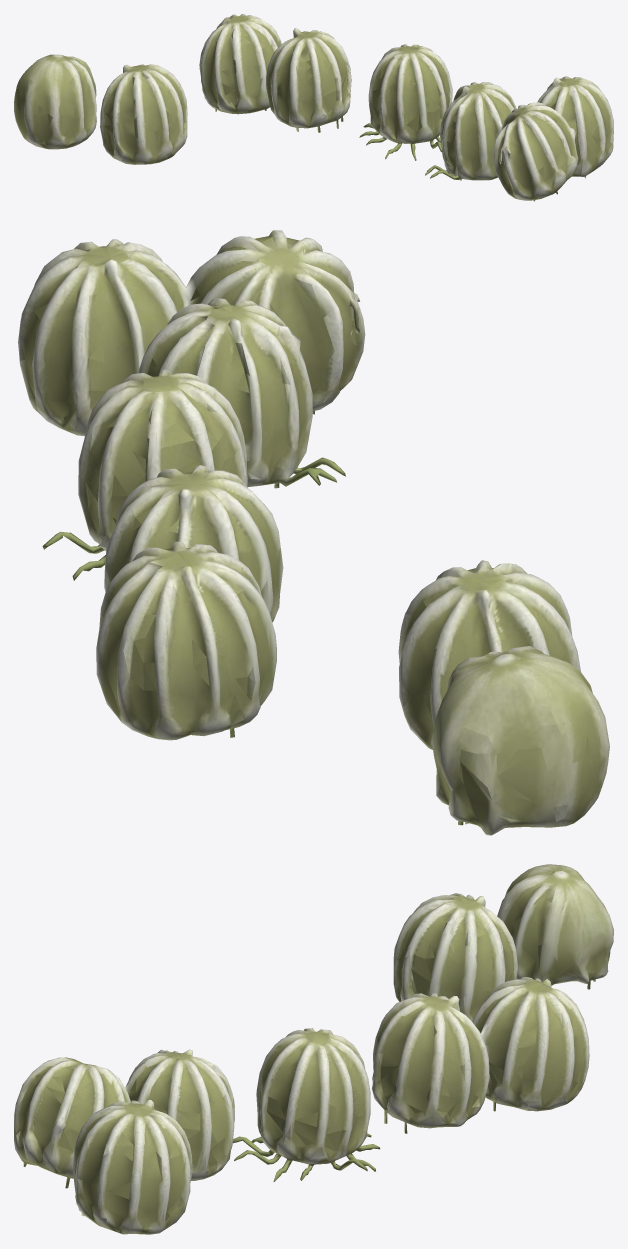
Rendered from huevos_colobura.fbx.
3 renders of one model, top to bottom at view 1: azimuth 30°, elevation 25°; view 2: azimuth 150°, elevation 25°; view 3: azimuth 270°, elevation 25°, orthographic. The views are drawn at different scales.
Parts seen in each view (by area): view 1: tripo_node_cbdf0291; view 2: tripo_node_cbdf0291; view 3: tripo_node_cbdf0291.
Boxes of the visible parts, x1=… form: tripo_node_cbdf0291: x1=14, y1=14, x2=613, y2=201; tripo_node_cbdf0291: x1=18, y1=230, x2=609, y2=835; tripo_node_cbdf0291: x1=14, y1=864, x2=613, y2=1234.
Bounding box in the file's own units: 1.96 × 0.3993 × 1.72.
1 material, 1 textured.
